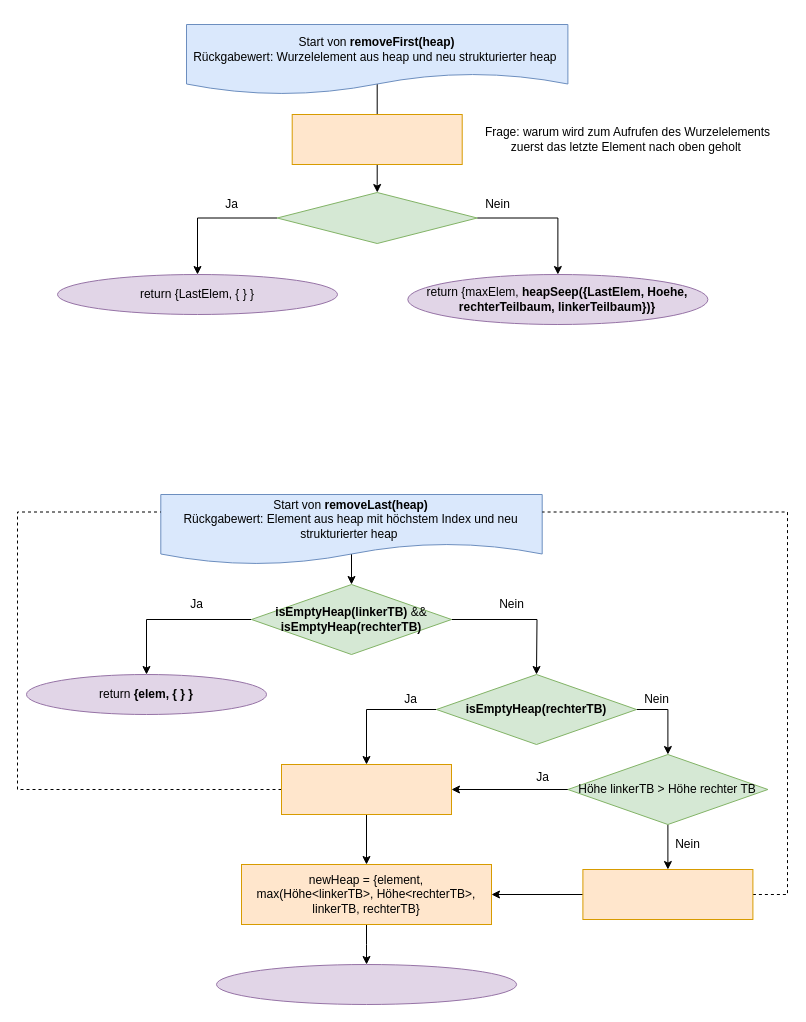
The diagram is 806 pixels wide and 1022 high, and some of its shapes have lost their labels. The box of each missing label's shape, as (x1, y1, x2, y2) in pixels:
isEmpty(newHeap): (276, 192, 477, 244)
return {elem, newHeap}: (216, 964, 517, 1004)
{elem, linkerTB} = removeLast(linkerTB): (280, 764, 452, 814)
{elem, rechterTB} = removeLast(rechterTB): (582, 868, 753, 920)
{lastElem, newHeap} = removeLast(heap): (291, 114, 462, 164)
